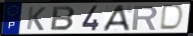4: (80, 5, 100, 32)
A: (101, 4, 132, 33)
B: (49, 6, 78, 32)
D: (158, 4, 186, 32)
K: (25, 6, 47, 32)
R: (131, 5, 160, 31)
